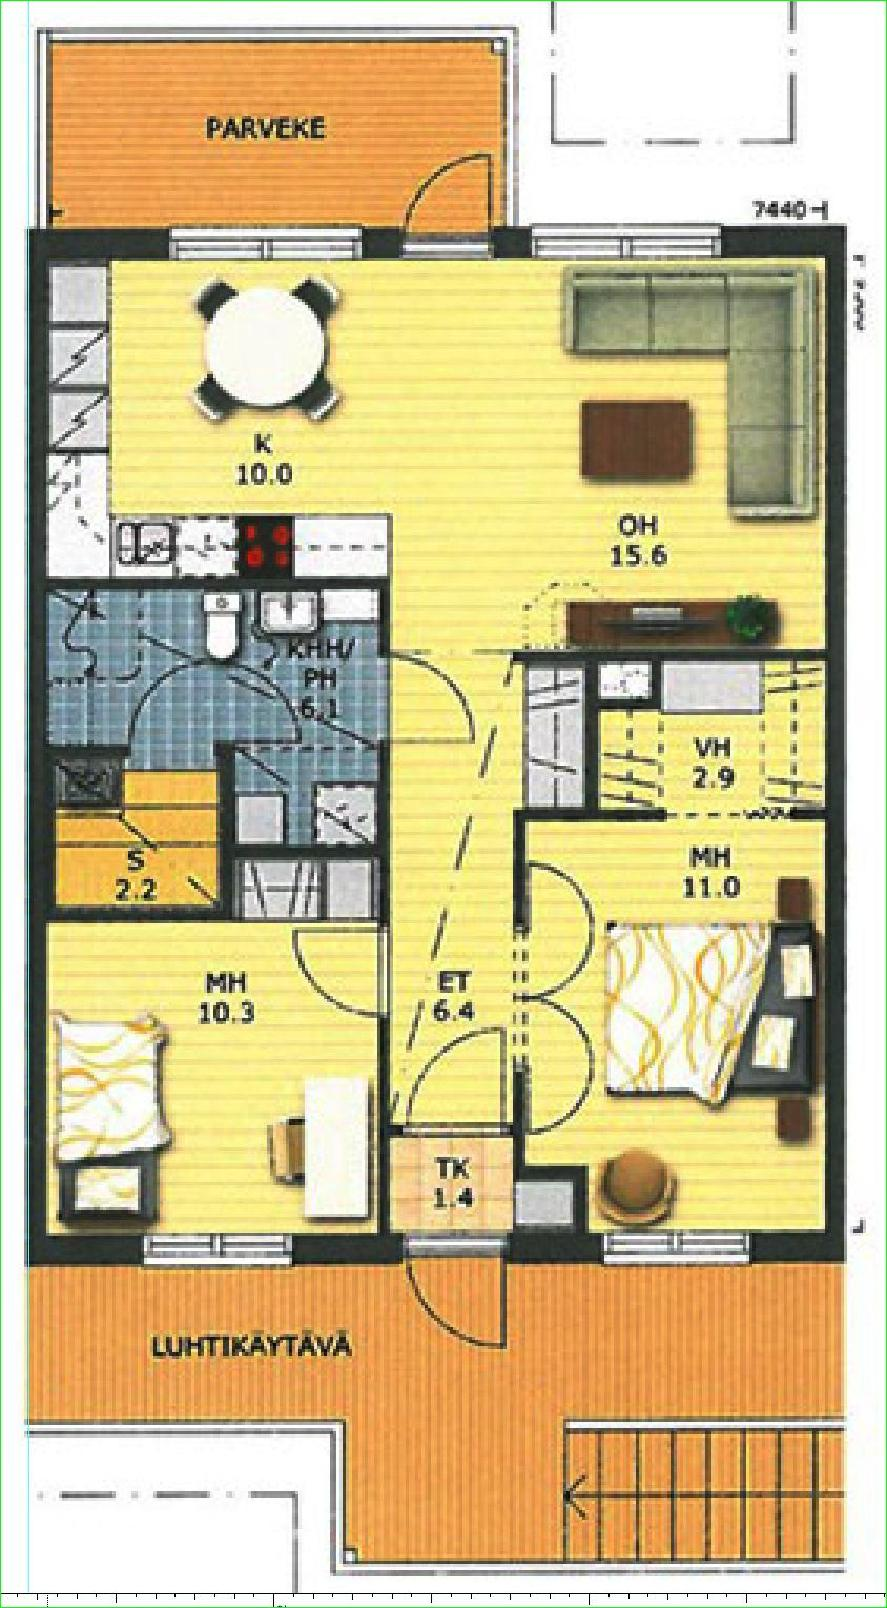door: (523, 858, 594, 1133), (126, 655, 301, 758), (416, 1231, 511, 1367), (288, 927, 406, 1029), (376, 658, 487, 758), (399, 157, 504, 255), (409, 1027, 502, 1127)
window: (130, 1229, 300, 1272), (525, 215, 707, 252), (602, 1227, 754, 1265), (175, 238, 360, 264)
zone: (52, 264, 819, 641), (380, 646, 830, 1227), (31, 1252, 845, 1554), (38, 569, 380, 919), (527, 820, 819, 1219), (45, 927, 375, 1231), (50, 33, 506, 220)
